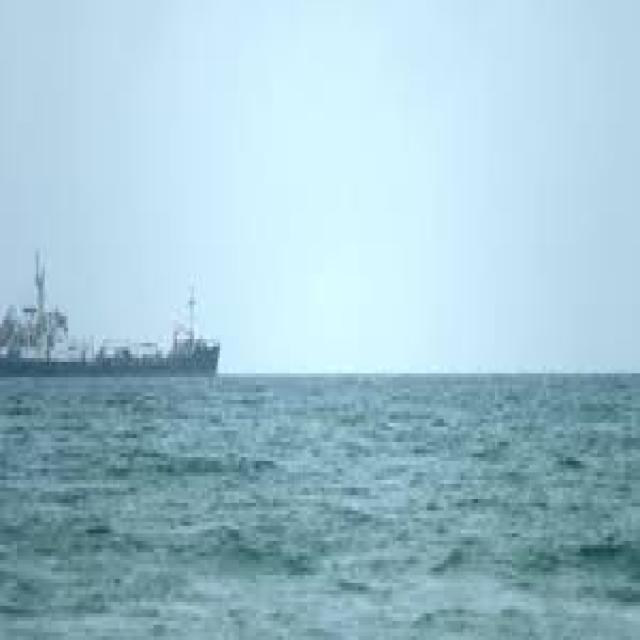cargoship: (0, 236, 215, 374)
